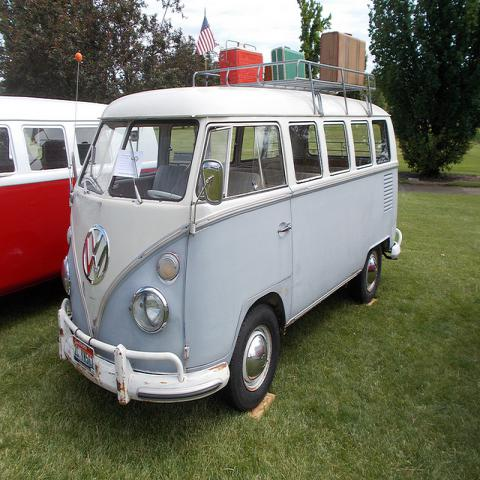car: (57, 60, 404, 413), (0, 95, 109, 301)
